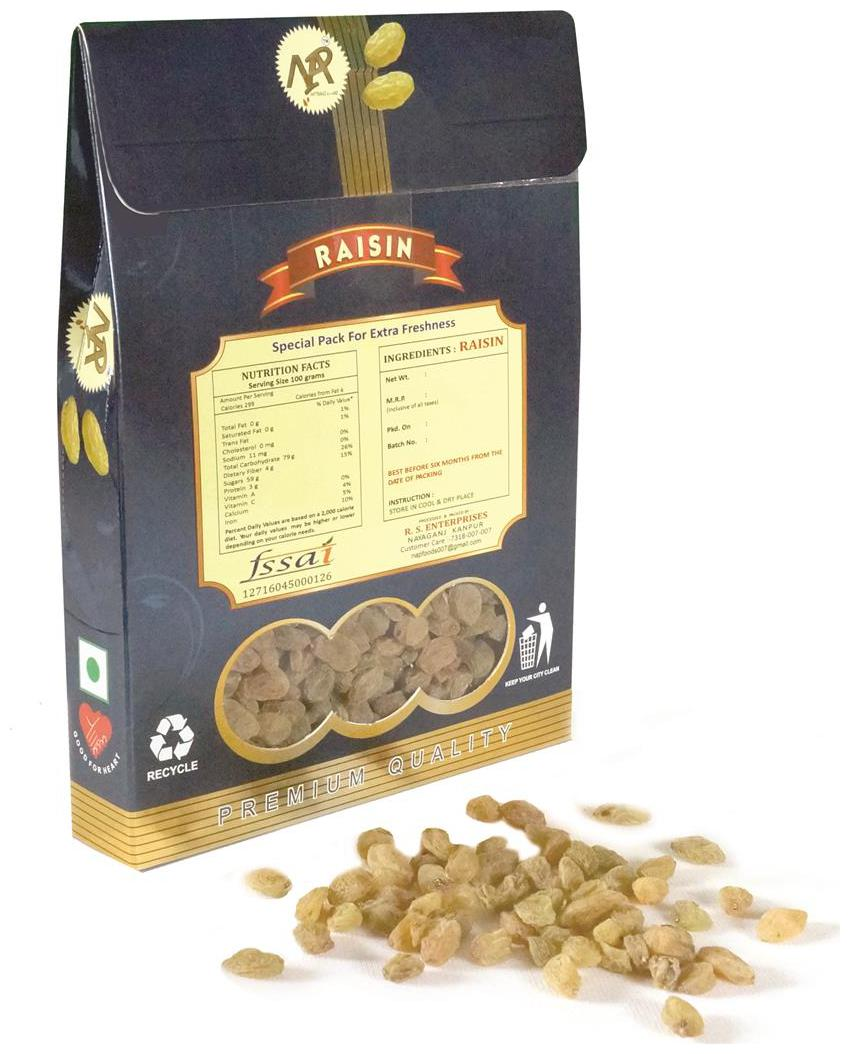fssai: (243, 536, 337, 582)
